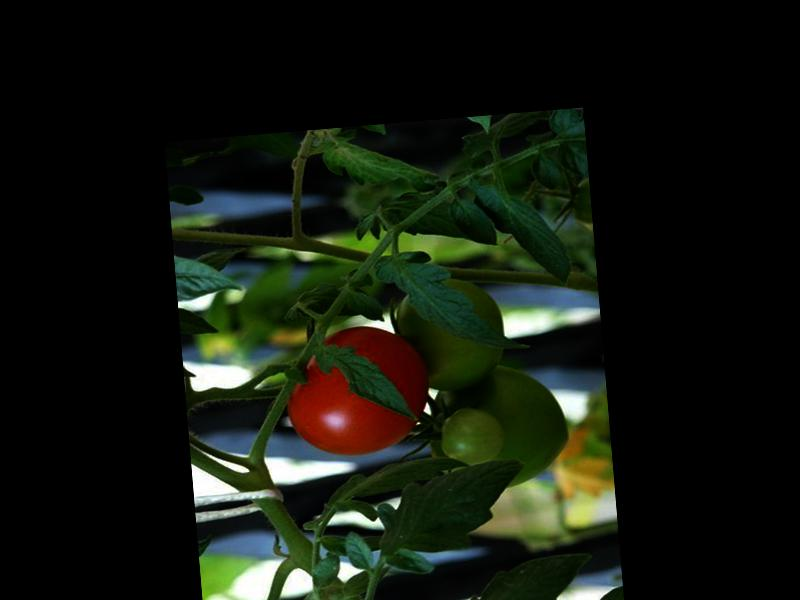Tomato: (280, 321, 432, 460)
